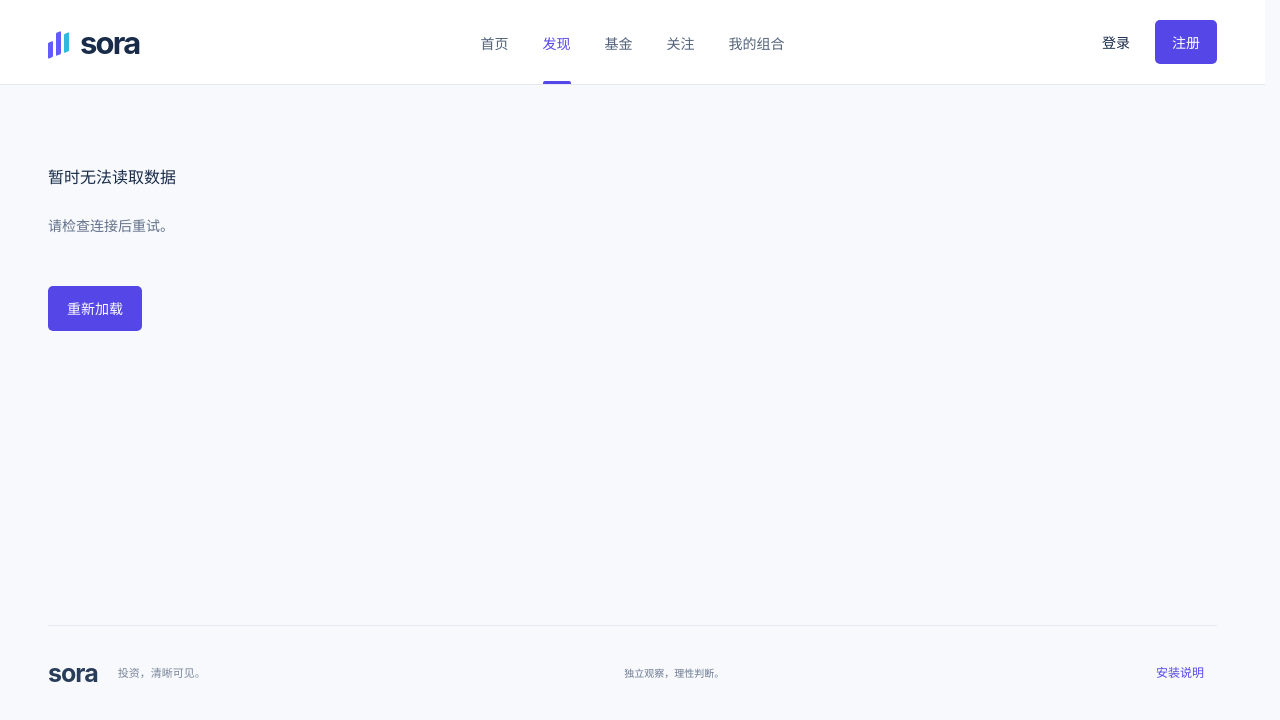
Test: direction discovery › supports deep links, unknown directions and load-error retry
Expected: the message named "正在载入内容" is shown, [48,167,176,331]
Expected: the message shows "暂时无法读取数据", [48,167,176,187]
Click the button "重新加载" at (95, 309), box [48,286,142,331]
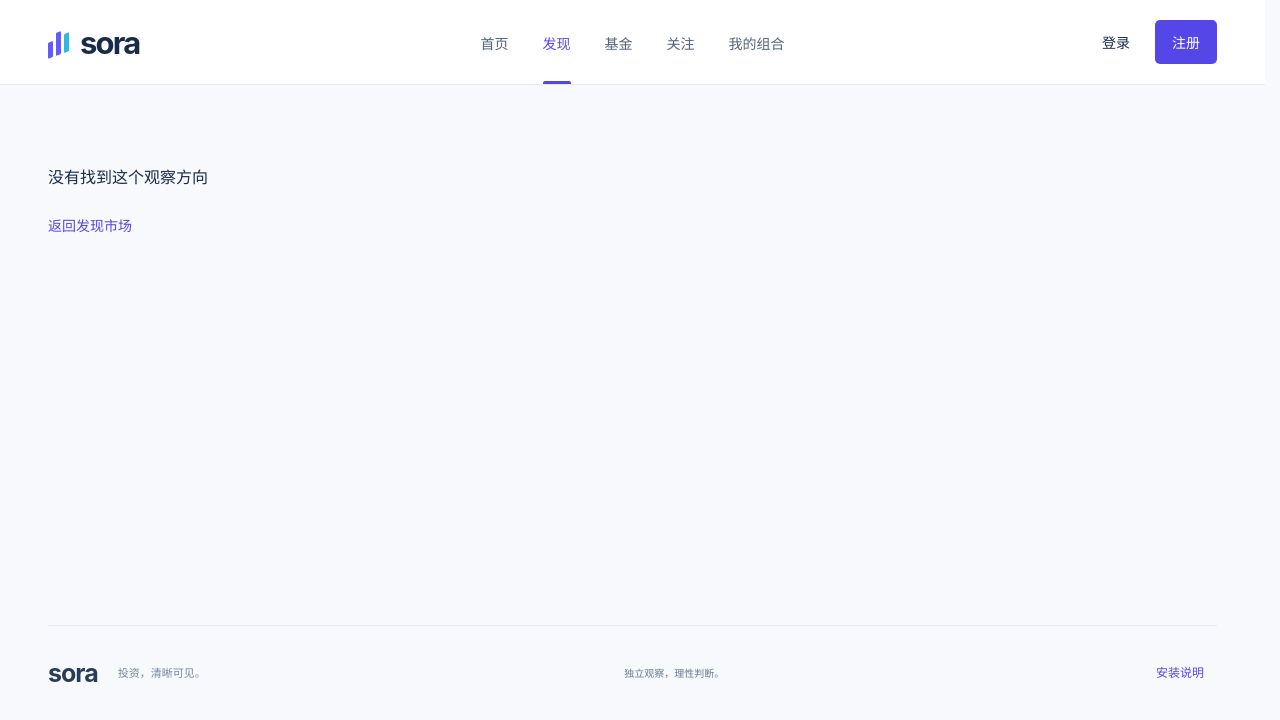
Expected: the heading "没有找到这个观察方向" is shown, [48,167,208,187]
